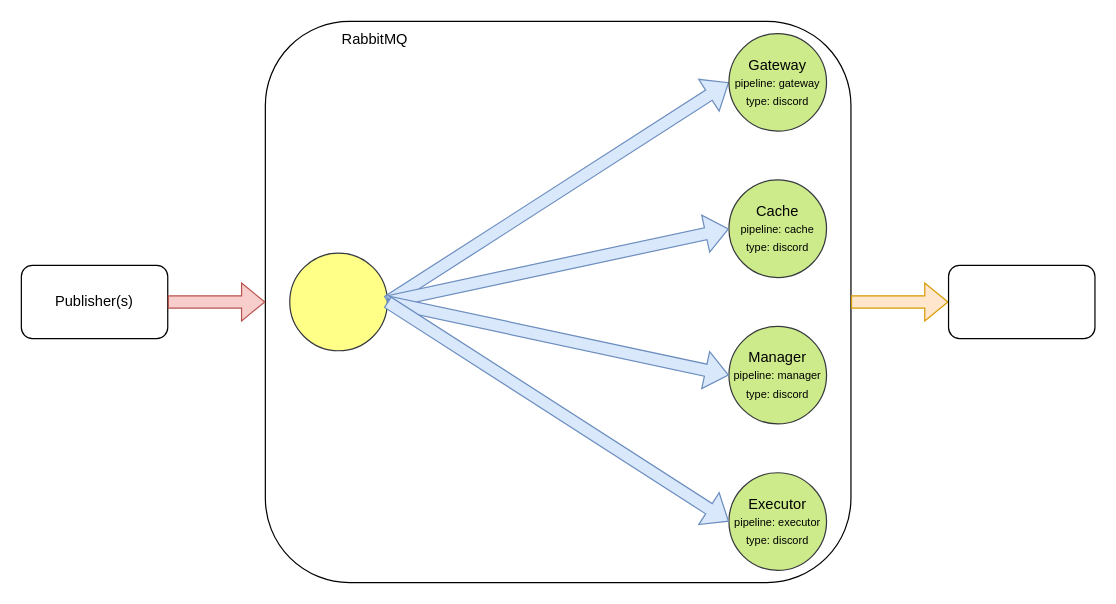
Some shapes in this 1116 by 604 pixel diagram are drawn without their labels. The centre of each missing label's shape, as x and y in pixels:
Consumer(s): (x=1021, y=301)
Headers Exchange: (x=338, y=301)
